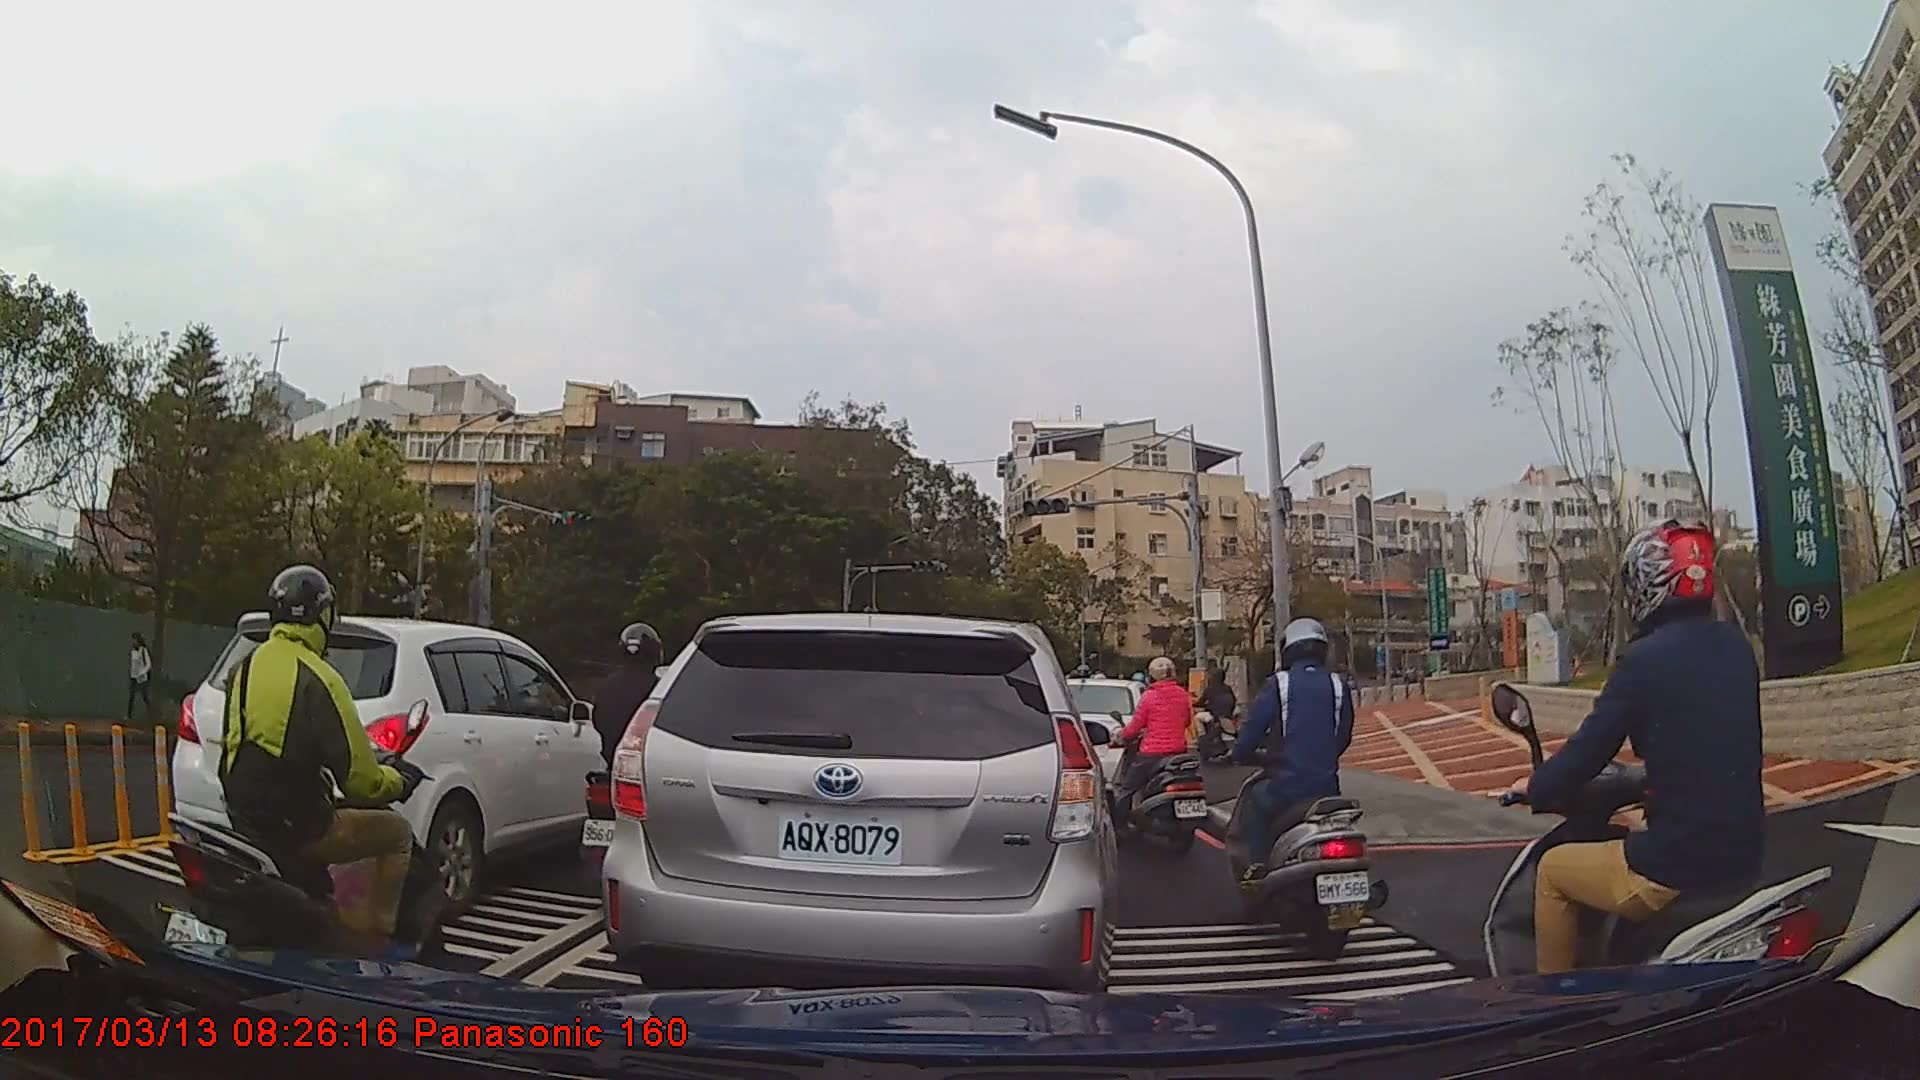pedestrian: (126, 631, 156, 721)
rider: (1488, 506, 1842, 1058), (162, 565, 453, 1014), (1222, 615, 1378, 958), (583, 619, 705, 932), (1103, 653, 1211, 863), (1194, 665, 1244, 762)
vehicle: (599, 611, 1118, 994), (170, 610, 628, 915)
